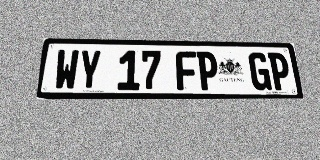1: (118, 50, 140, 90)
7: (140, 51, 162, 90)
F: (176, 51, 198, 90)
G: (248, 52, 272, 90)
P: (267, 53, 292, 90), (196, 52, 219, 90)
W: (53, 49, 79, 90)
Y: (77, 50, 102, 90)
